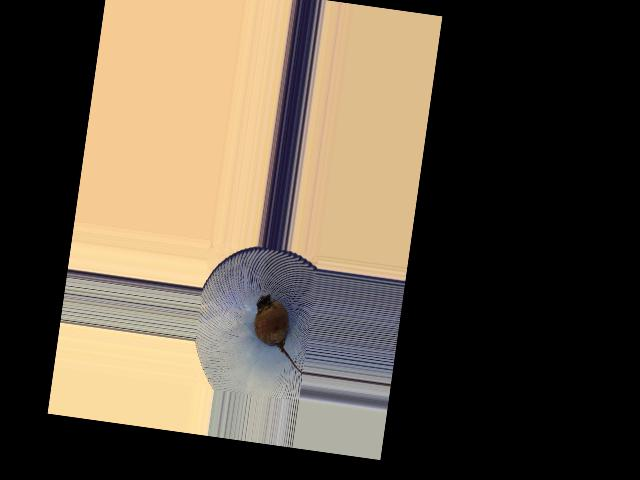beet: (248, 292, 313, 373)
